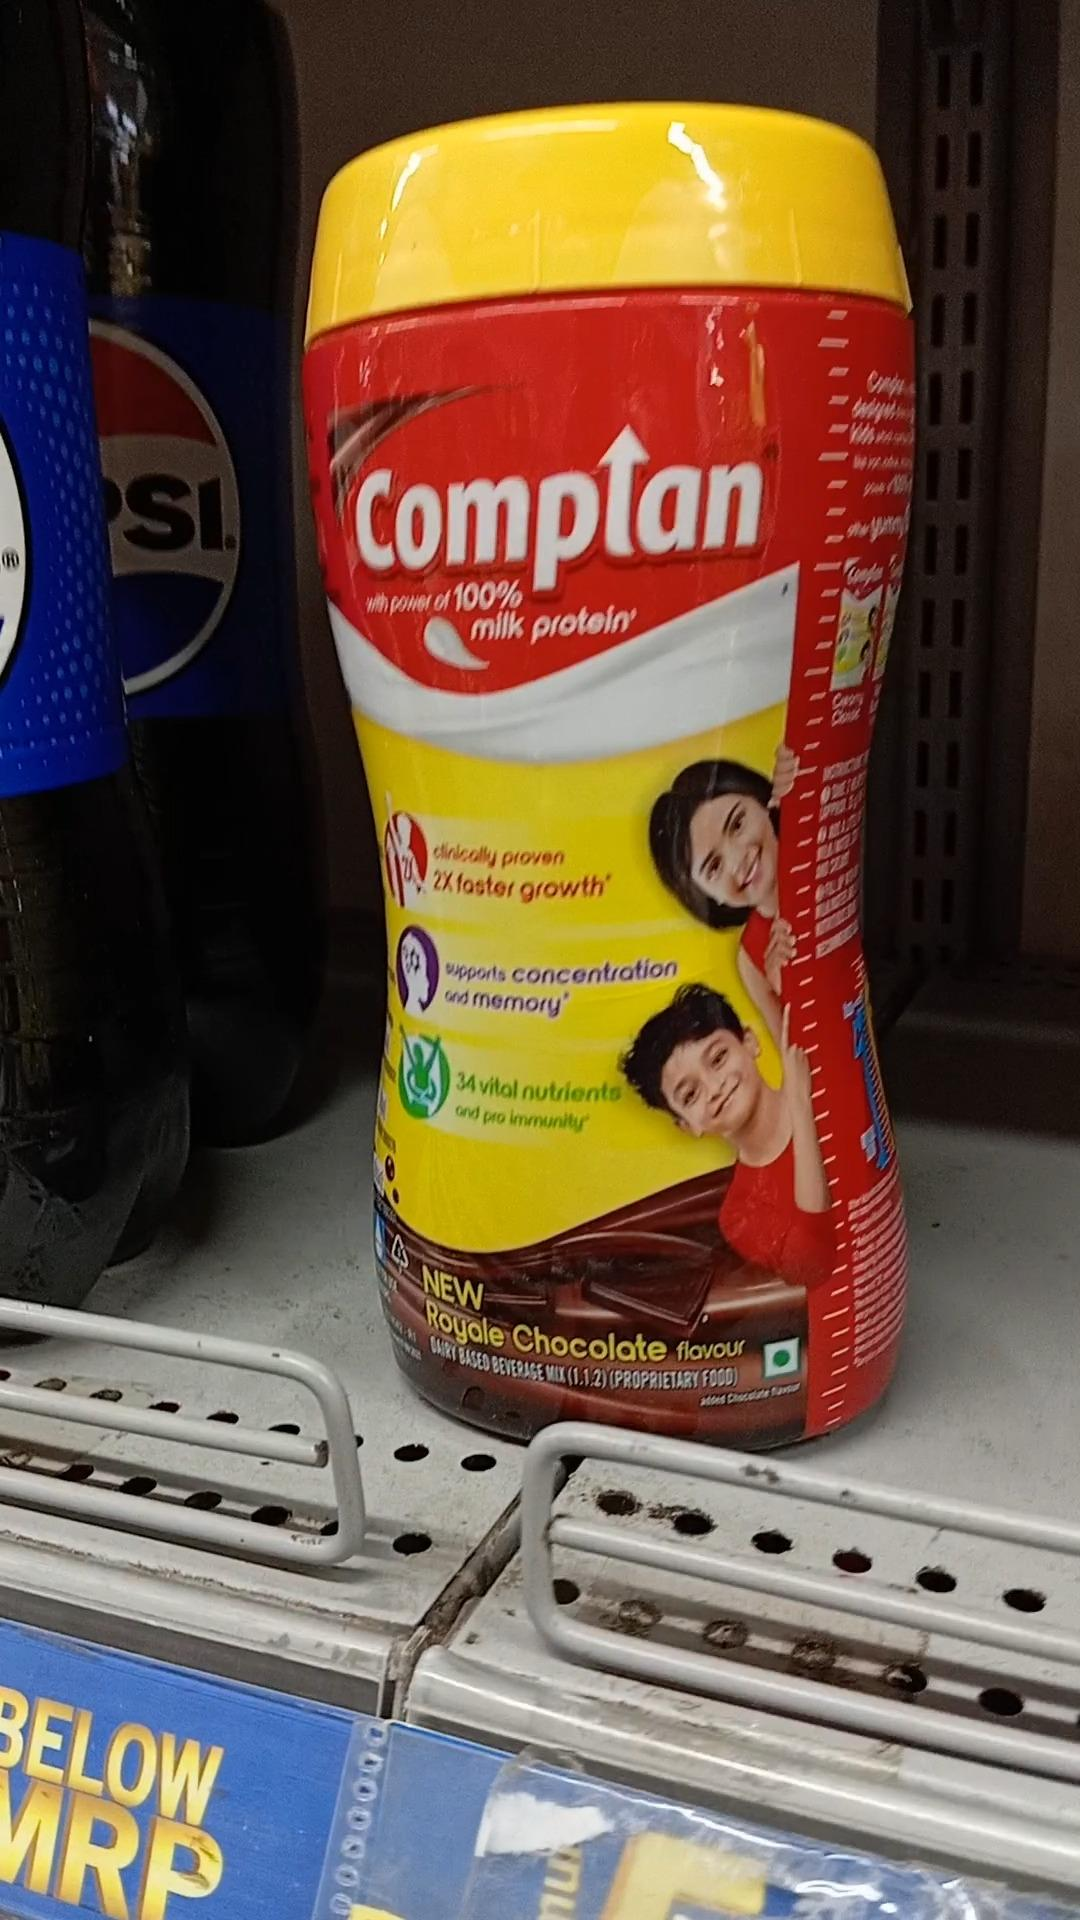COMPLAN_CHOCOLATE_500_GMS_JAR: (320, 92, 894, 1436)
